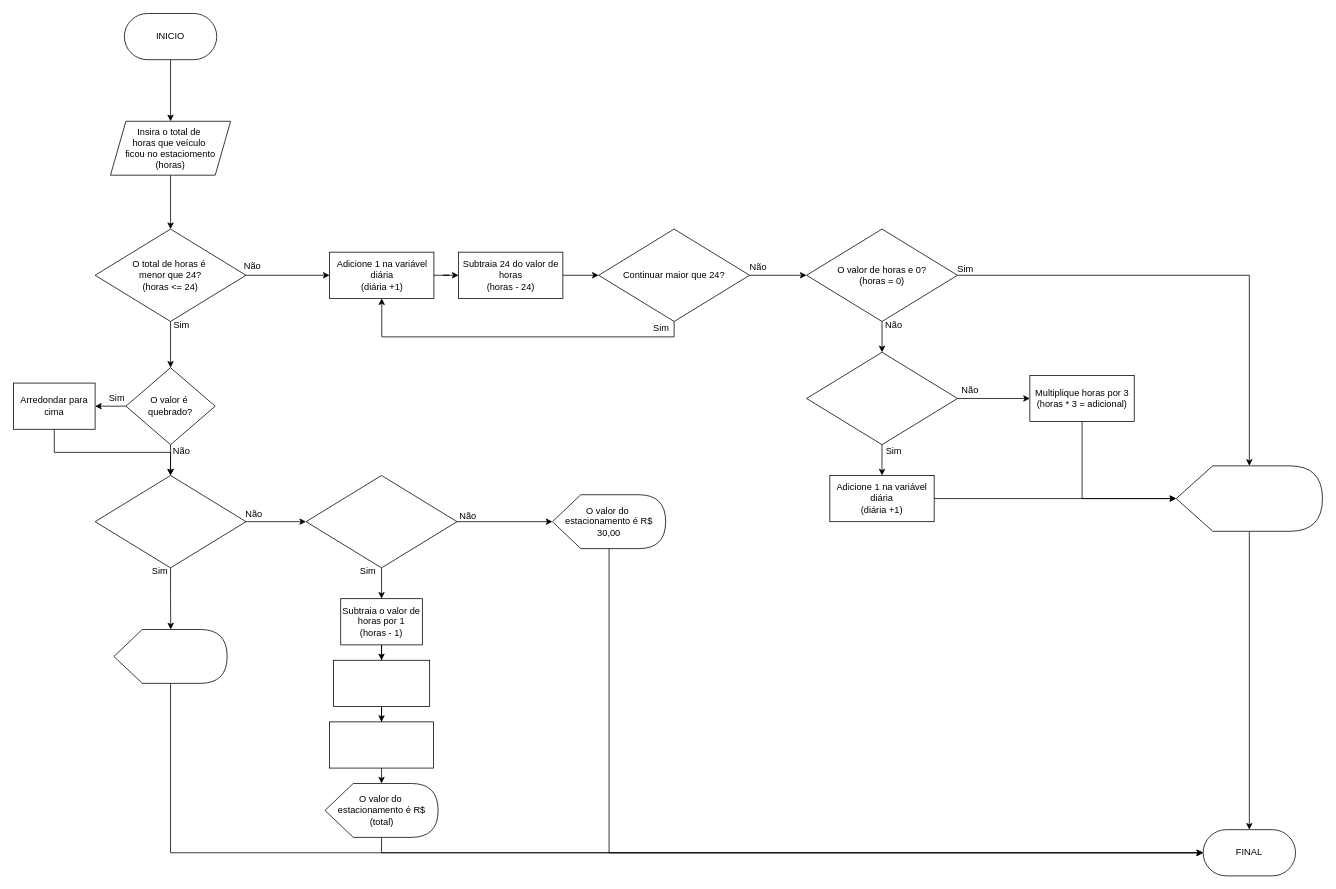
Some shapes in this 1336 by 889 pixel diagram are drawn without their labels. Each missing label, with the centre of its shape:
"Ficou menos de 6 horas? (horas <= 6)" goes at point 381,521.
"Multiplique o restante por 3 (horas*3 = resultado)" goes at point 381,683.
"O valor de horas é maior ou igual a 10? (horas >= 10)" goes at point 881,398.
"O valor do estacionamento é R$ ((diária)*30,00) + adicional" goes at point 1248,498.
"O valor do estacionamento é R$ 15,00" goes at point 170,656.
"Some o resultado com 15 (resultado + 15 = total)" goes at point 381,744.
"É menor ou igual a 1 hora? (horas <= 1)" goes at point 170,521.
